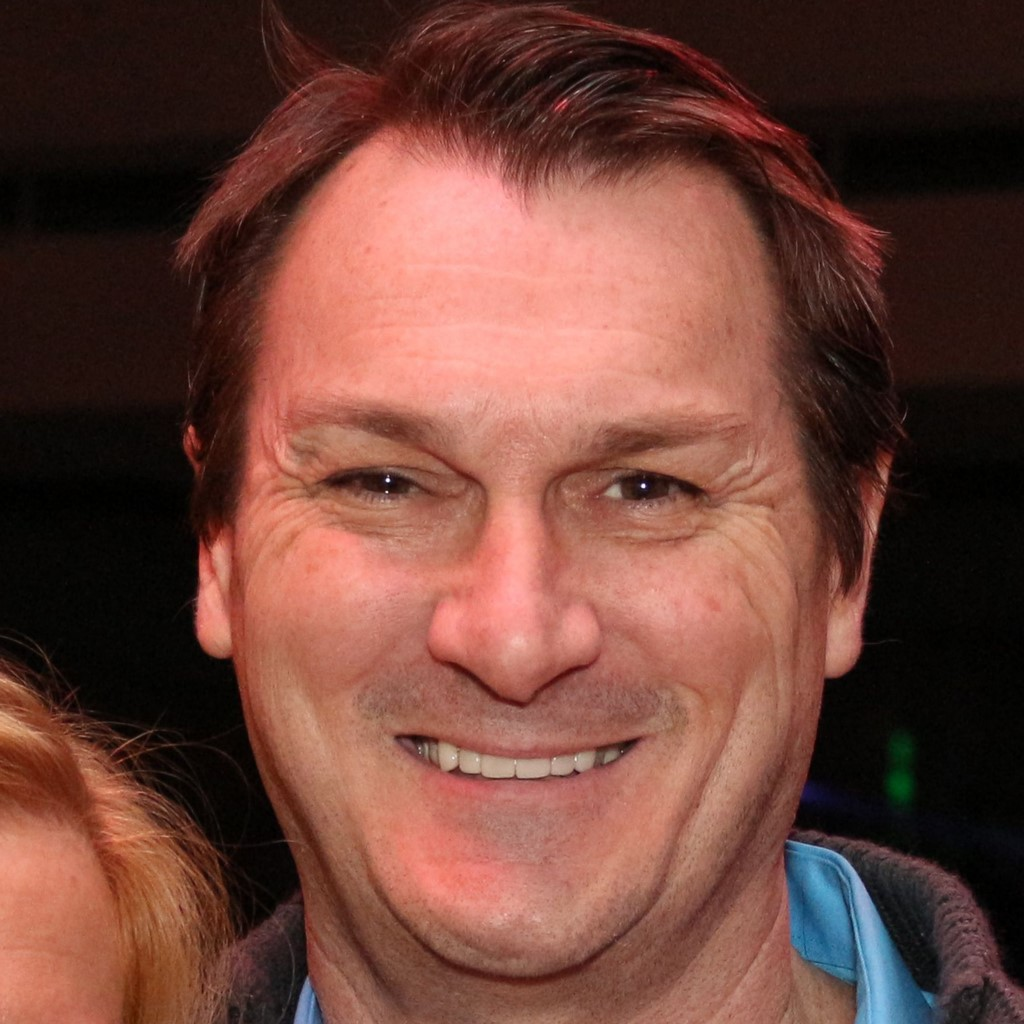sin_mascara: (221, 127, 817, 973)
